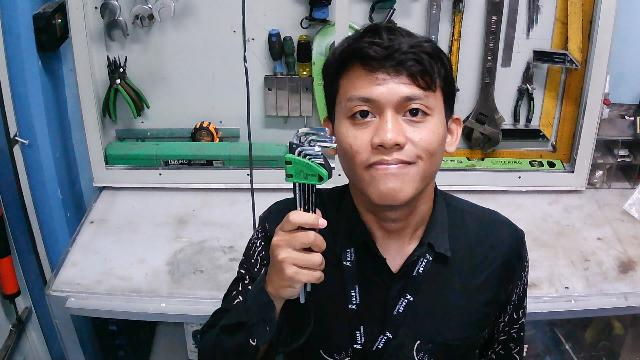kunci_l: (280, 125, 340, 305)
